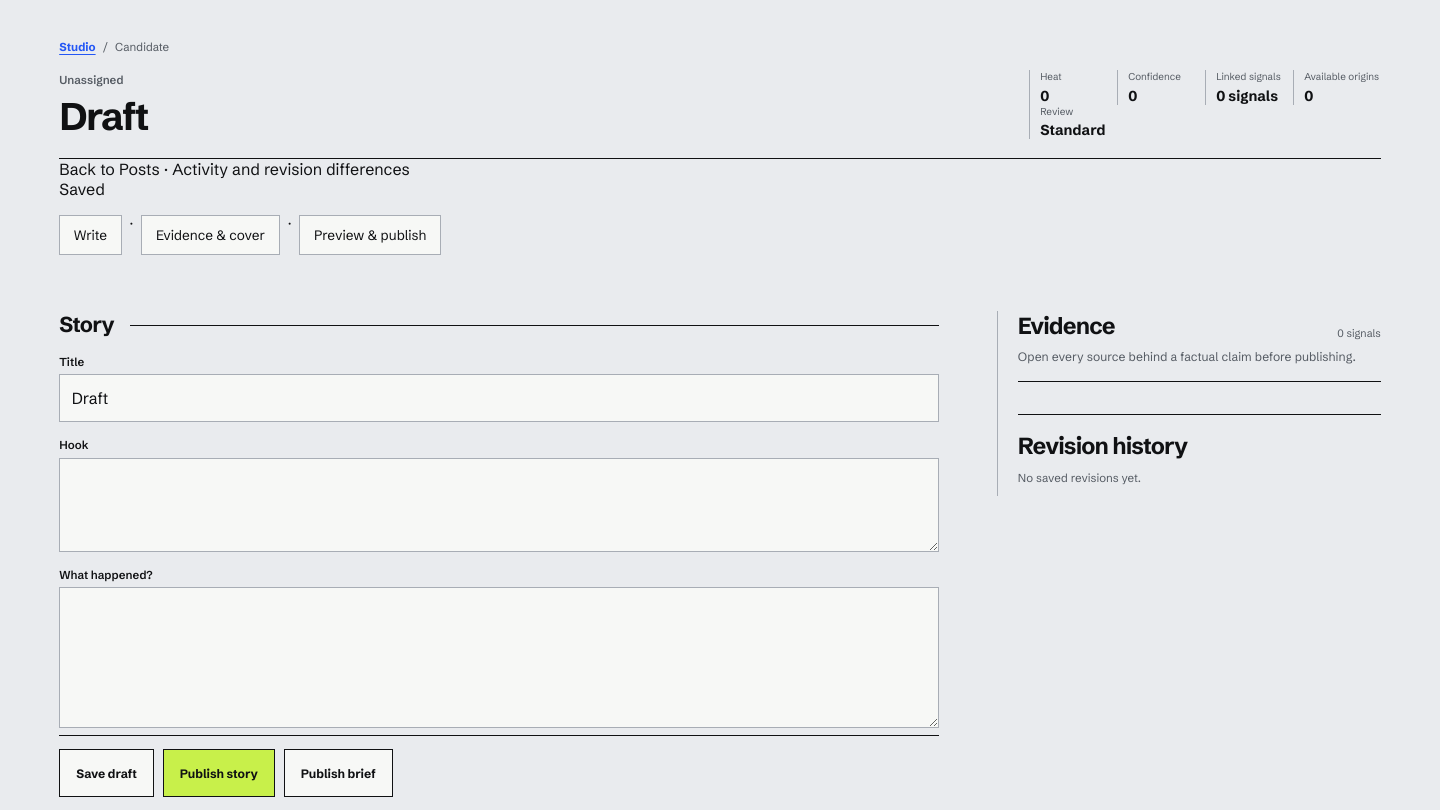
Test: does not overwrite typing entered during a save
Type "First text" into the text box labelled "Hook".
click(499, 505); type("First text")  # box [59,458,939,552]
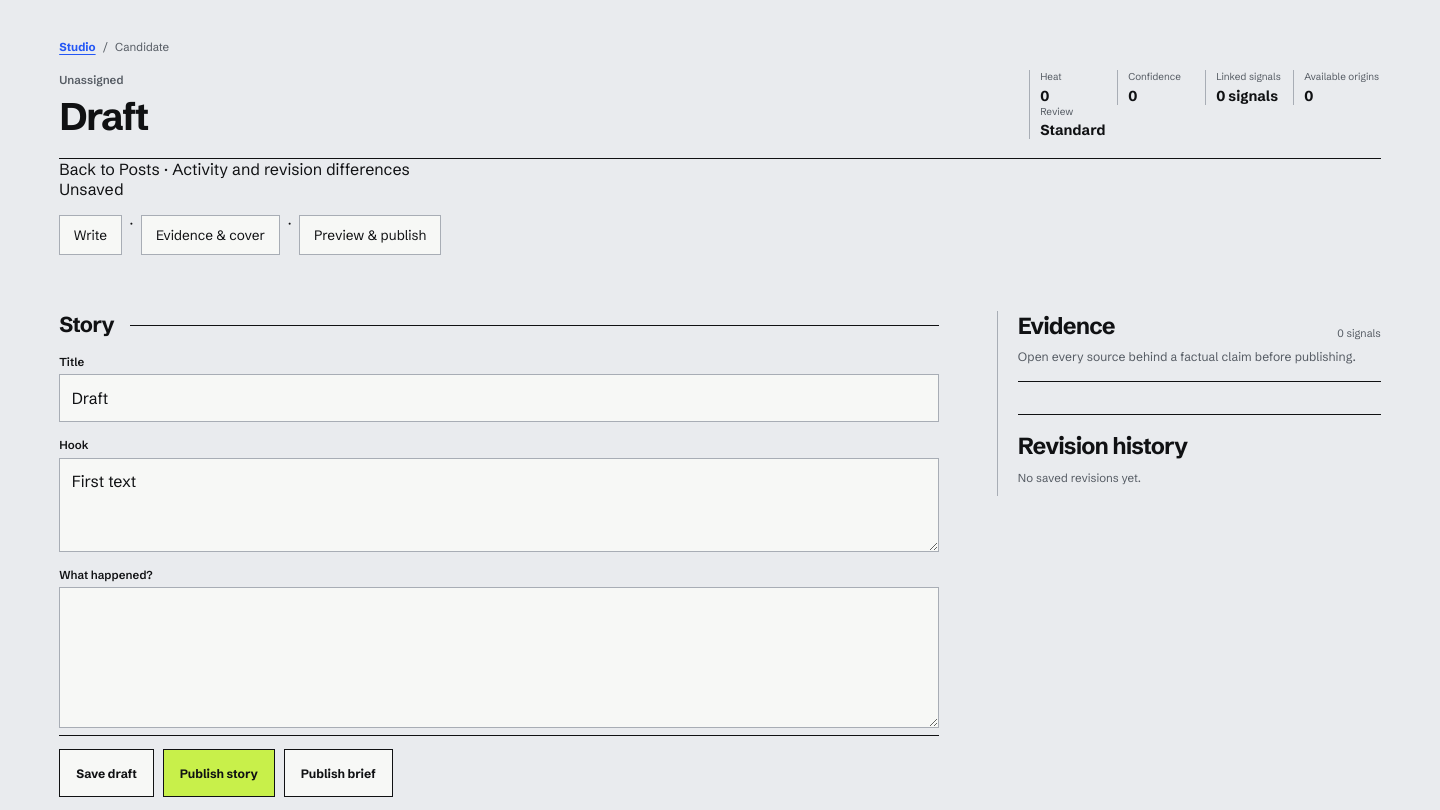
Click the button "Save draft".
click(107, 773)  # box [59,749,154,797]
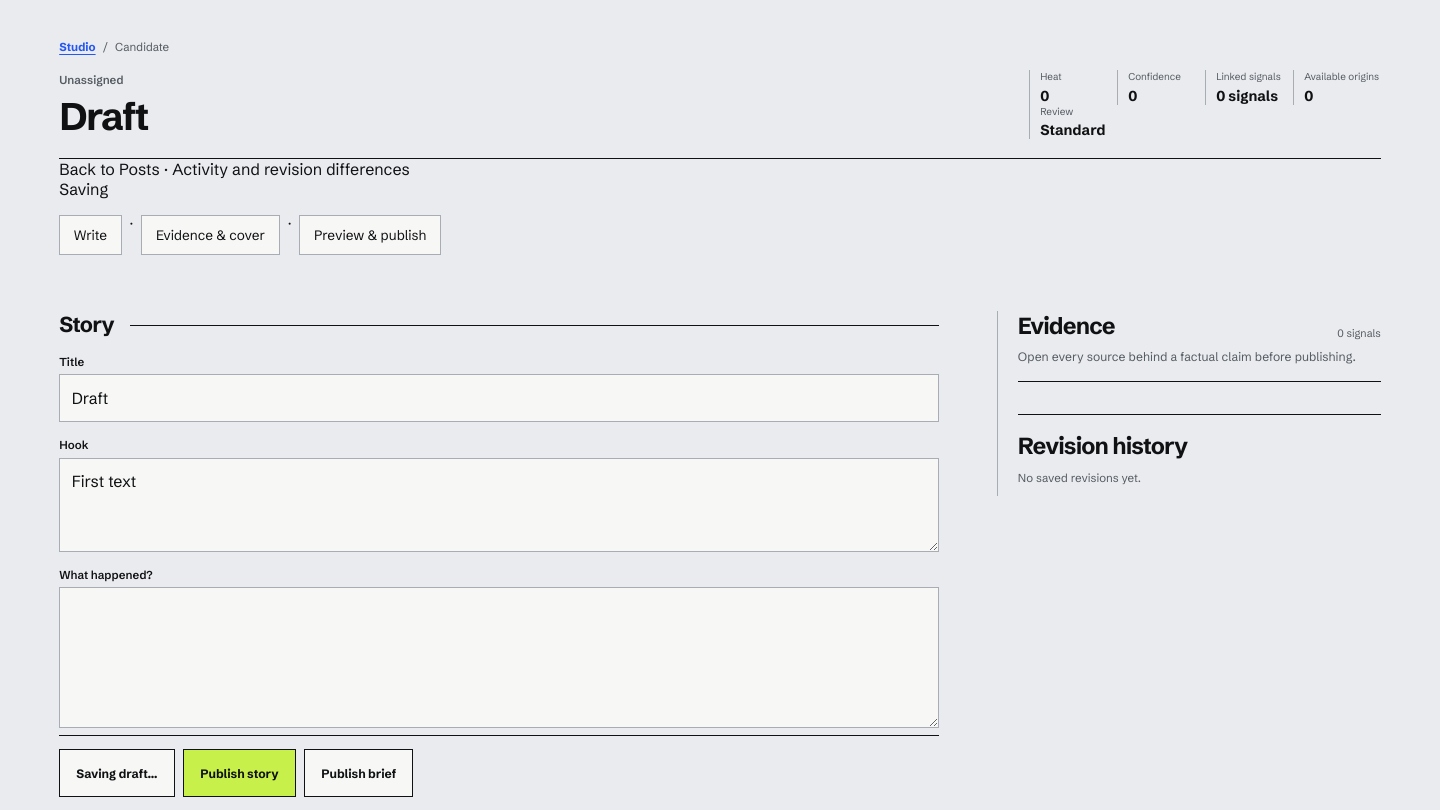
Replace the text in the text box labelled "Hook" with "New text during request" at (499, 505), box [59,458,939,552]
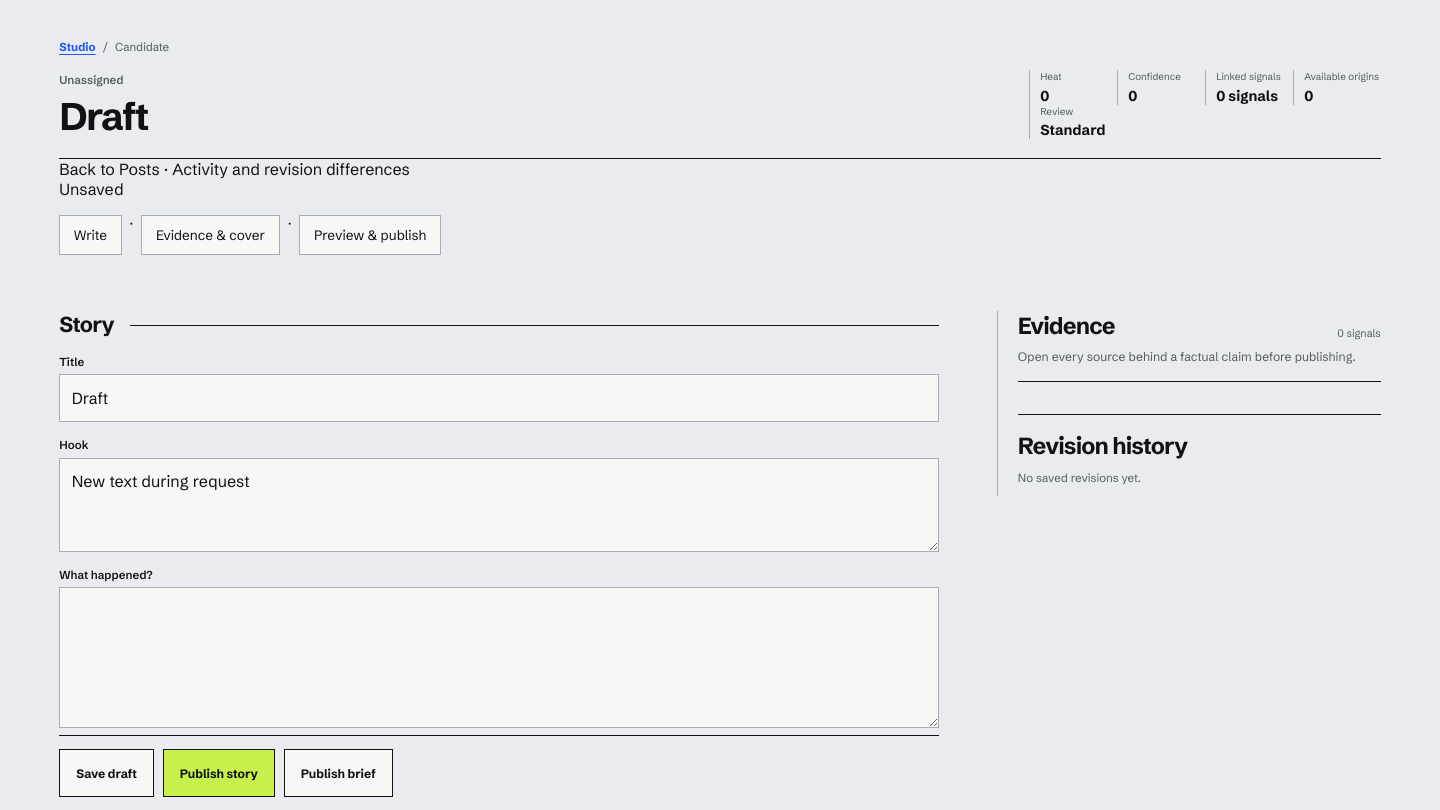
expect the message reads "Unsaved": met, box [59,179,124,199]
